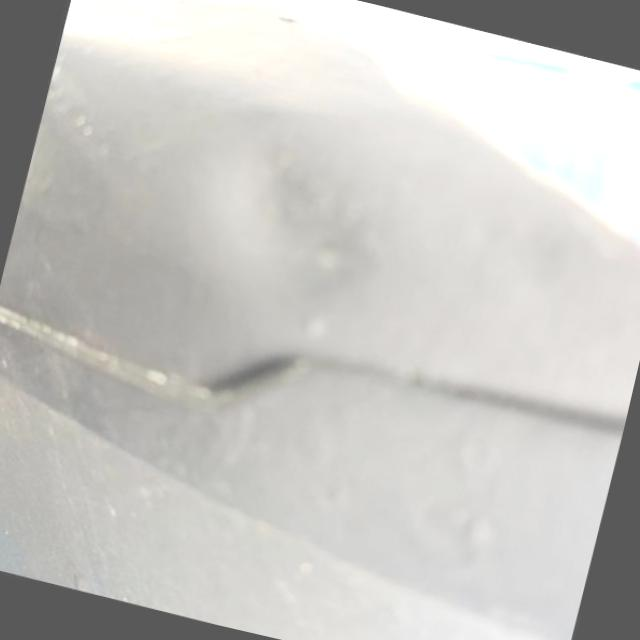dent: (148, 87, 428, 360)
